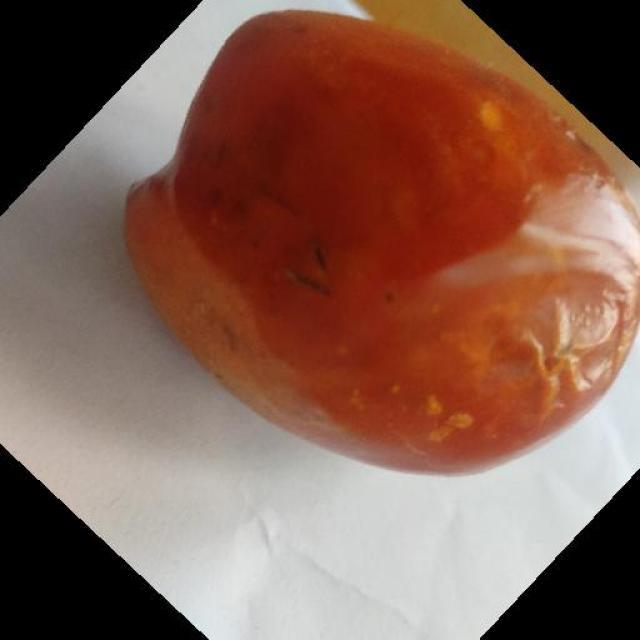Rotten Tomato: (130, 19, 638, 499)
